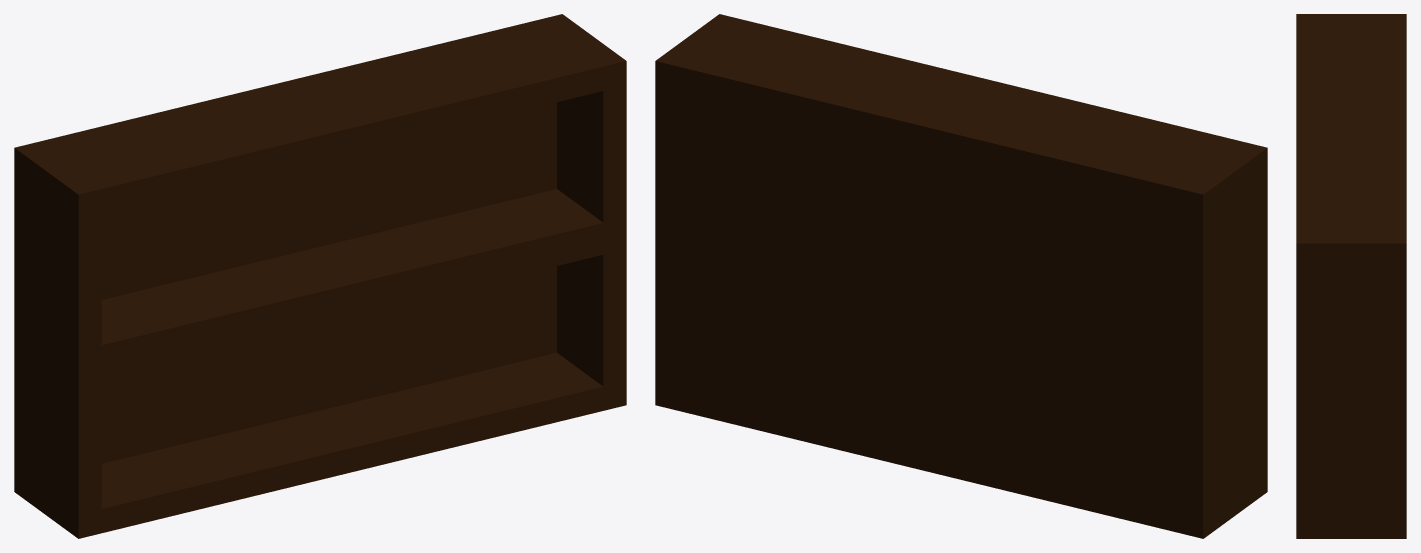
The model's file is barszekreny.FBX.
3 renders of one model, left to right at view 1: azimuth 30°, elevation 25°; view 2: azimuth 150°, elevation 25°; view 3: azimuth 270°, elevation 25°, orthographic. The views are drawn at different scales.
Visible parts, largest first — view 1: barszekreny; view 2: barszekreny; view 3: barszekreny.
Part boxes in pixels (<box>): barszekreny: <box>14,14,626,538</box>; barszekreny: <box>655,14,1267,538</box>; barszekreny: <box>1296,14,1406,538</box>.
Size of the model in its own units: 800 by 480 by 162.
